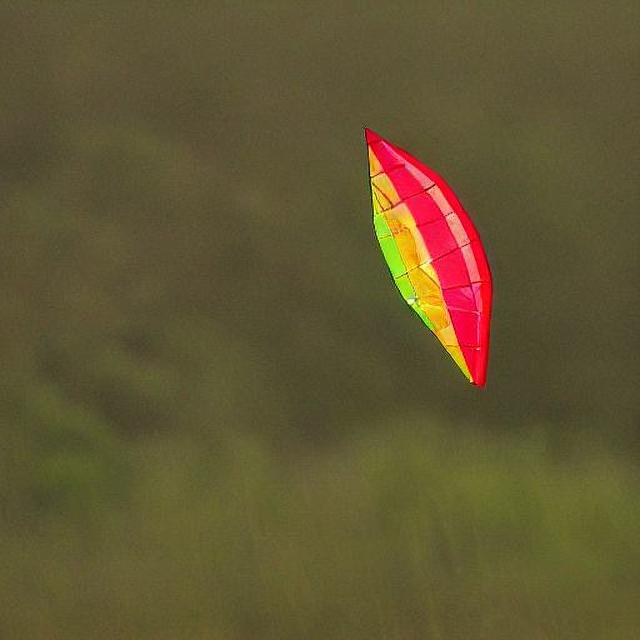floating object: (362, 121, 496, 386)
